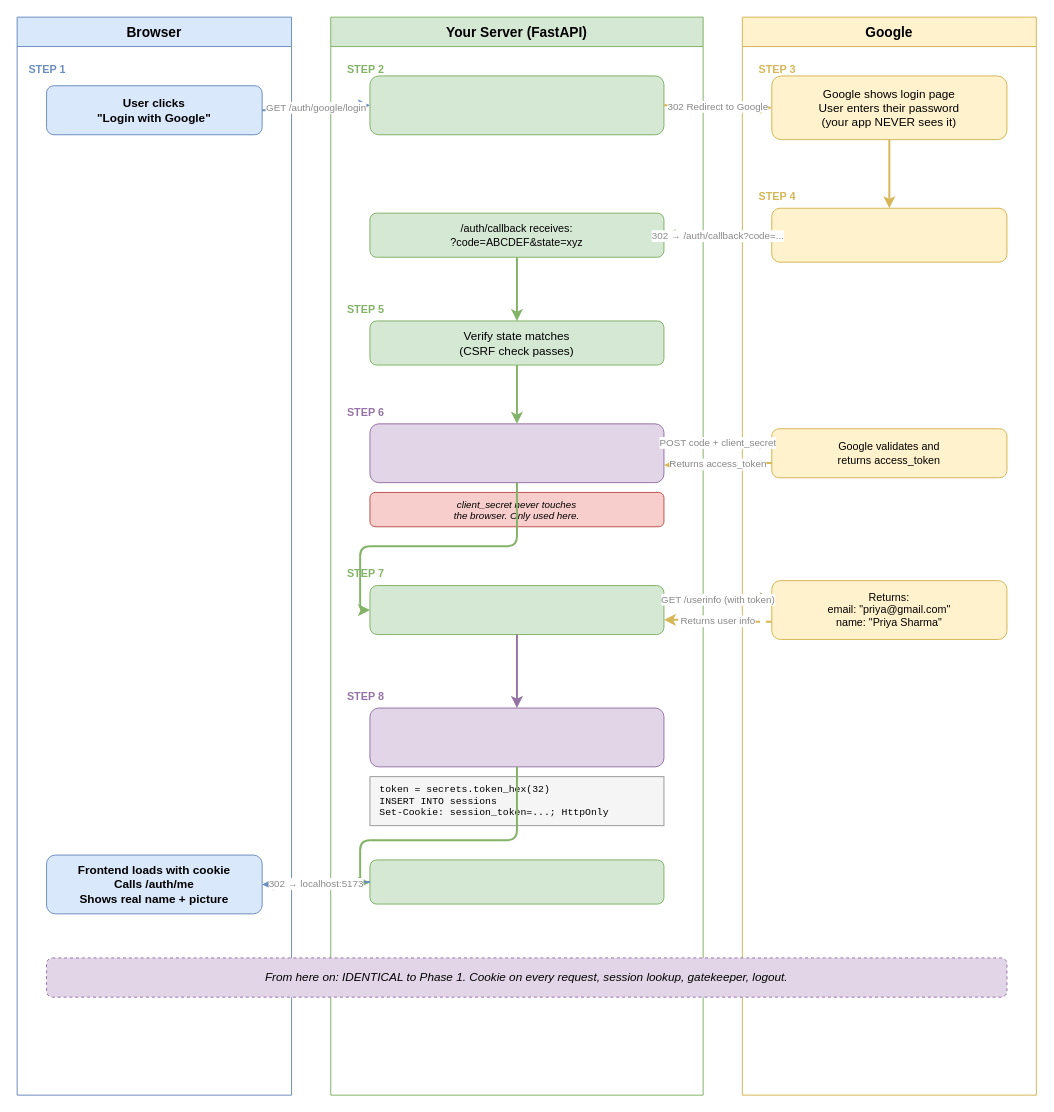
The diagram is 1054 pixels wide and 1112 high, and some of its shapes have lost their labels. The centre of each missing label's shape, as x and y in pixels:
Call Google userinfo API Get verified email, name, picture: the point at 516,610
Exchange CODE for tokens Send: code + client_secret (SERVER-TO-SERVER call): the point at 516,453
Find or create user in DB Call _create_session() SAME AS PHASE 1: the point at 516,737
Generate random state (CSRF protection) Build Google auth URL: the point at 516,105
Google redirects browser back with an authorization CODE: the point at 889,234
Redirect to frontend with cookie set: the point at 516,881
